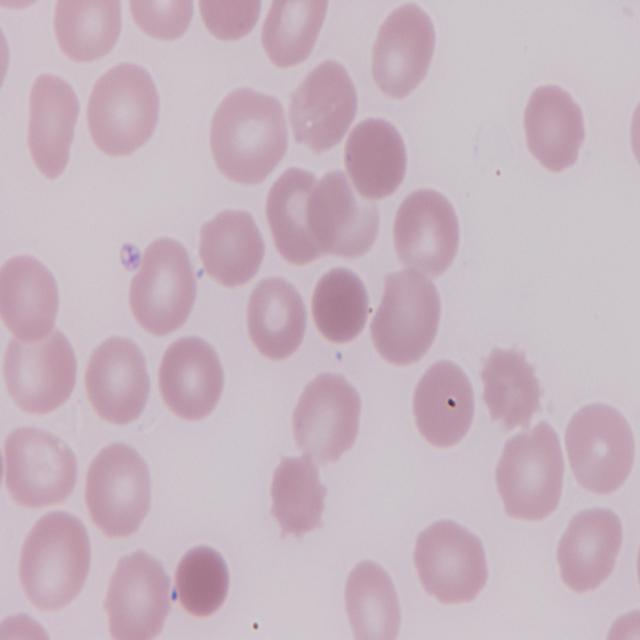RBC: (18, 504, 96, 618), (207, 84, 292, 188), (125, 235, 201, 339), (286, 59, 364, 160), (563, 398, 638, 502), (370, 266, 446, 367), (84, 62, 162, 160), (83, 439, 155, 543), (1, 326, 82, 418), (493, 422, 567, 522), (1, 422, 83, 512), (390, 184, 462, 284), (414, 515, 492, 607), (292, 369, 366, 464), (83, 333, 154, 428), (369, 1, 437, 100), (555, 504, 627, 596), (520, 80, 590, 174), (155, 334, 225, 426), (102, 548, 171, 640), (245, 273, 313, 364), (24, 74, 80, 184), (198, 201, 268, 288), (478, 346, 544, 434), (340, 556, 408, 639), (0, 249, 61, 341), (50, 0, 127, 71), (260, 0, 329, 71), (124, 0, 202, 46), (195, 0, 269, 42)
Spherocyte: (410, 358, 480, 451), (342, 112, 410, 200), (310, 262, 374, 350), (173, 540, 234, 620)
